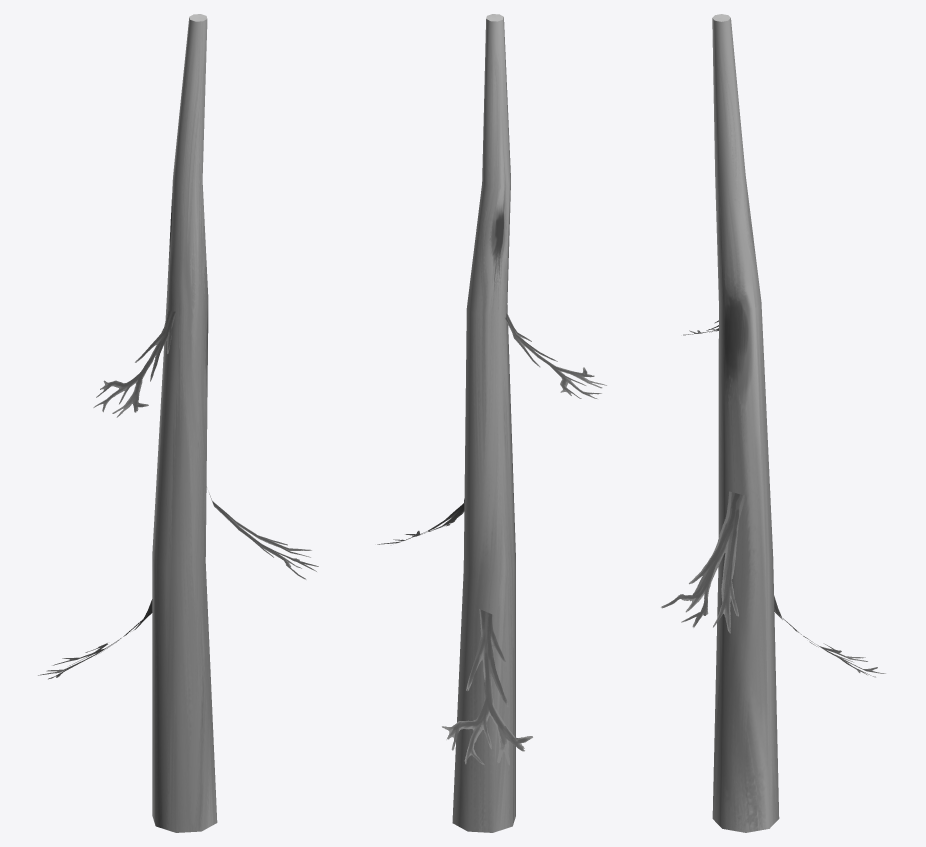
The model's file is env_tree_spruce_dead_03.fbx.
3 views of the same model, side by side, from view 1: azimuth 30°, elevation 25°; view 2: azimuth 150°, elevation 25°; view 3: azimuth 270°, elevation 25° (orthographic). The views are drawn at different scales.
Parts seen in each view (by area): view 1: env_tree_dead_23564; view 2: env_tree_dead_23564; view 3: env_tree_dead_23564.
Part boxes in pixels (x1,y1,x2,y2): env_tree_dead_23564: (38,14,318,832); env_tree_dead_23564: (377,14,606,832); env_tree_dead_23564: (661,14,885,832).
Size of the model in its own units: 81.91 by 259 by 76.65.
1 material, 1 textured.
